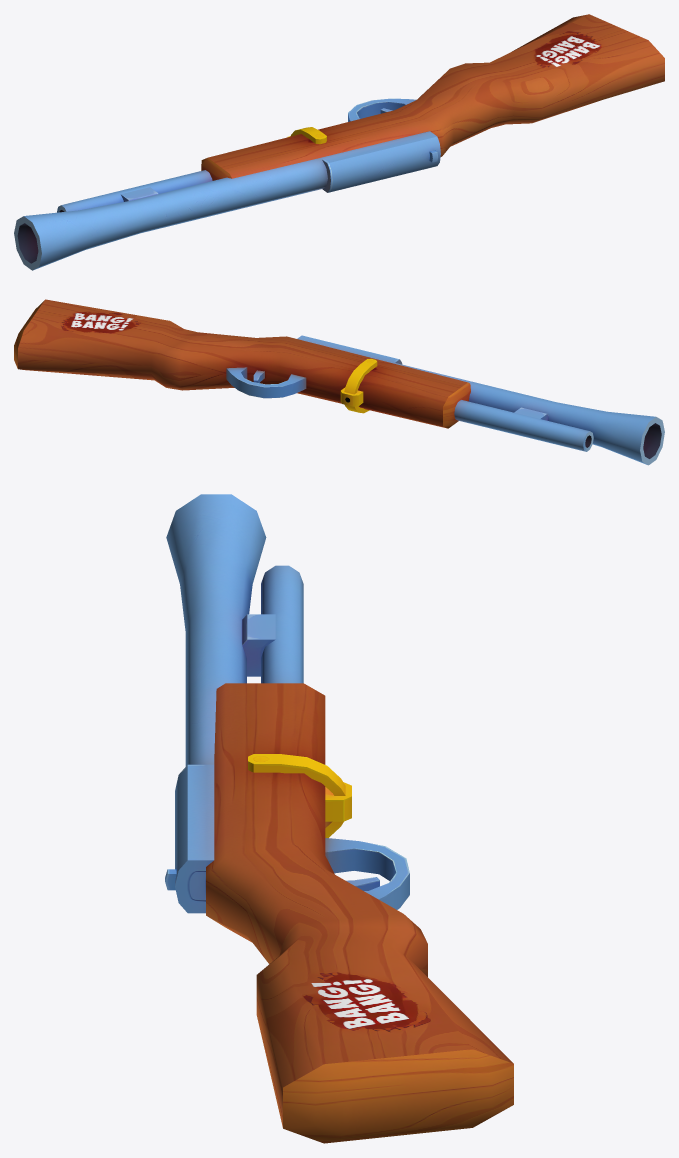
The picture shows the model from 3 angles, top to bottom: view 1: azimuth 30°, elevation 25°; view 2: azimuth 150°, elevation 25°; view 3: azimuth 270°, elevation 25°; orthographic projection. The views are drawn at different scales.
Visible parts, largest first — view 1: rifle; view 2: rifle; view 3: rifle.
Boxes of the visible parts, bbox=[...] form: rifle: bbox=[14, 14, 664, 270]; rifle: bbox=[14, 299, 664, 465]; rifle: bbox=[165, 494, 513, 1143].
Bounding box in the file's own units: 10577 × 750 × 2716.
Materials: 1 (1 with a texture image).
